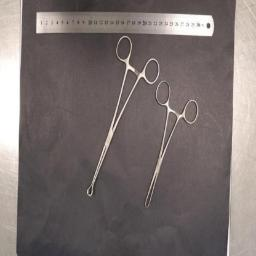Allis Tissue Forceps: (144, 78, 200, 208)
